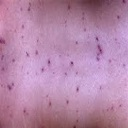Chickenpox: (90, 37, 107, 64), (40, 56, 54, 72), (4, 81, 16, 93), (1, 35, 9, 47), (69, 59, 77, 67)
